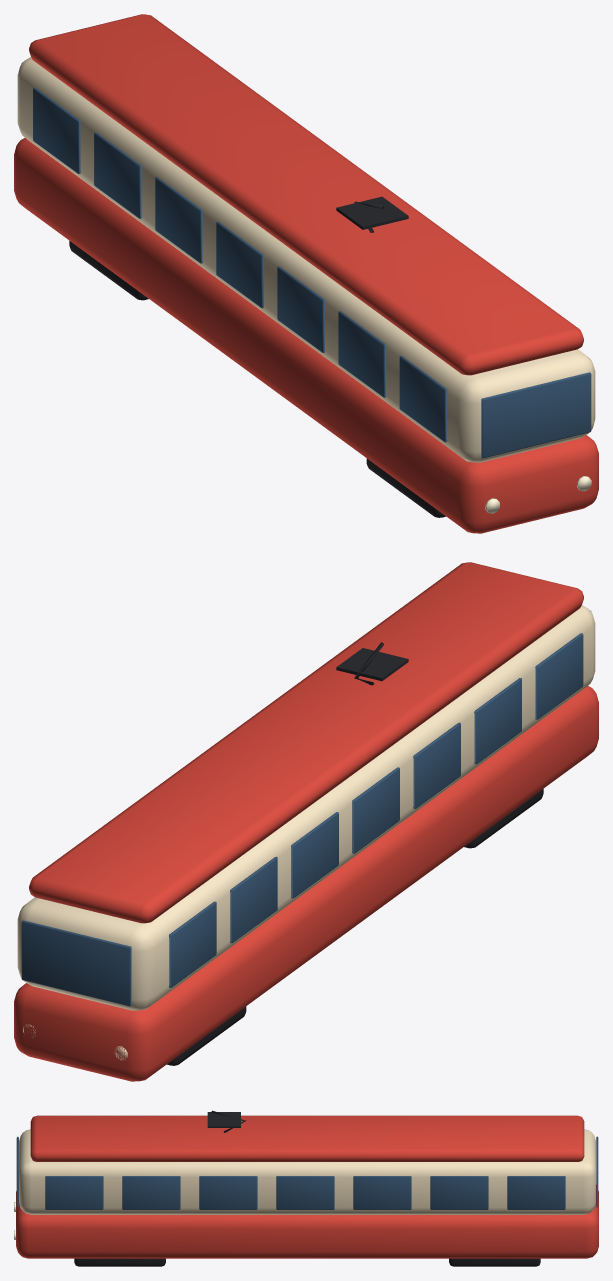
Rendered from tram.gltf.
The picture shows the model from 3 angles, top to bottom: view 1: azimuth 30°, elevation 25°; view 2: azimuth 150°, elevation 25°; view 3: azimuth 270°, elevation 25°; orthographic projection. The views are drawn at different scales.
Parts seen in each view (by area): view 1: tram_body, bogie0_mesh, bogie1_mesh; view 2: tram_body, bogie0_mesh, bogie1_mesh; view 3: tram_body, bogie0_mesh, bogie1_mesh.
Boxes of the visible parts, x1,y1,x2,y2 form: tram_body: [14, 14, 598, 533]; bogie0_mesh: [366, 458, 445, 517]; bogie1_mesh: [69, 241, 148, 300]; tram_body: [14, 562, 598, 1081]; bogie0_mesh: [464, 789, 543, 848]; bogie1_mesh: [167, 1006, 246, 1065]; tram_body: [14, 1110, 598, 1258]; bogie0_mesh: [74, 1258, 165, 1266]; bogie1_mesh: [449, 1258, 540, 1266].
Size of what is drawn, in the model's own units: 2.43 by 3.73 by 14.05.
